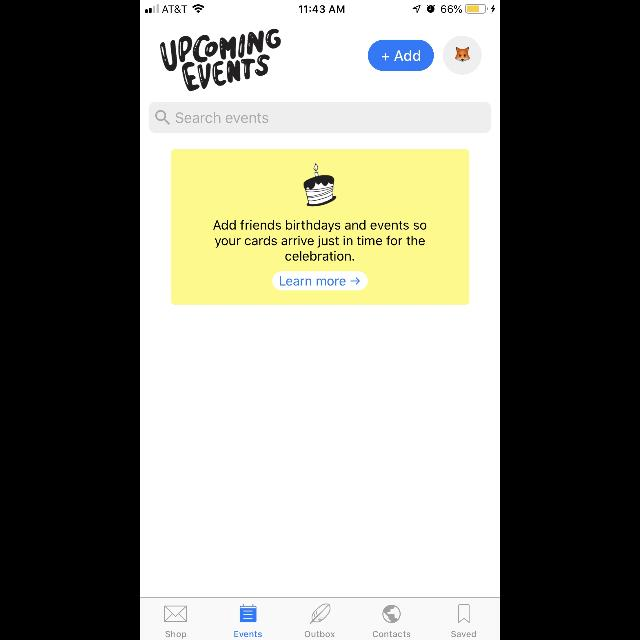icon: (310, 604, 330, 624), (165, 606, 187, 622), (383, 605, 401, 623), (240, 604, 256, 622), (156, 110, 170, 126), (458, 604, 469, 624)
image: (160, 28, 282, 92), (442, 36, 482, 76), (304, 163, 336, 207)
input: (149, 102, 491, 134)
text: (214, 220, 426, 262), (175, 112, 268, 124), (373, 631, 411, 637), (452, 630, 476, 638), (305, 631, 335, 637), (166, 631, 187, 639), (234, 631, 262, 637)
textbutton: (368, 40, 434, 72), (272, 272, 368, 290)
uppertaskbar: (140, 0, 500, 14)
